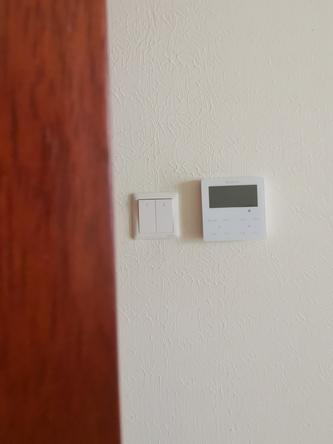switch: (153, 196, 177, 235), (137, 197, 159, 234)
